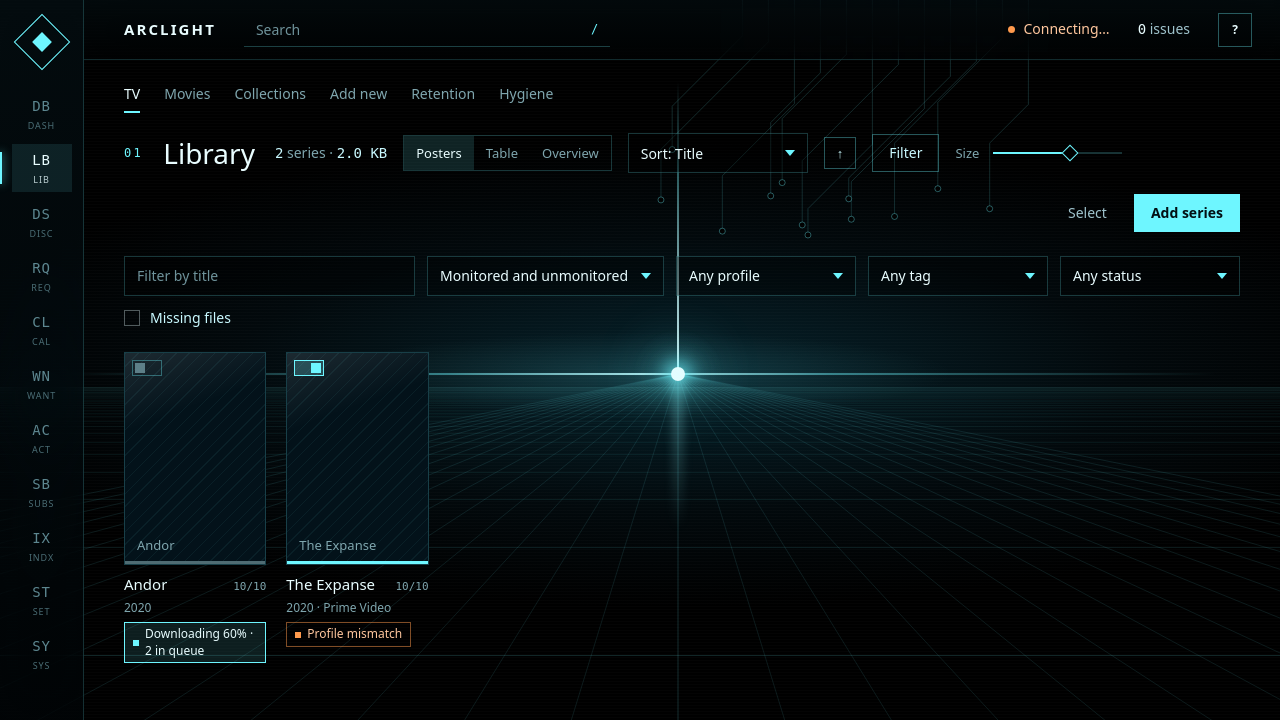
Test case: library index › lists series as poster cards and filters as you type
Expected: the link "The Expanse" is shown, [286, 352, 429, 647]
Expected: the link "Andor" is shown, [124, 352, 266, 663]
Type "expan" into the search field named "Filter library" at (270, 276), box [124, 256, 415, 296]
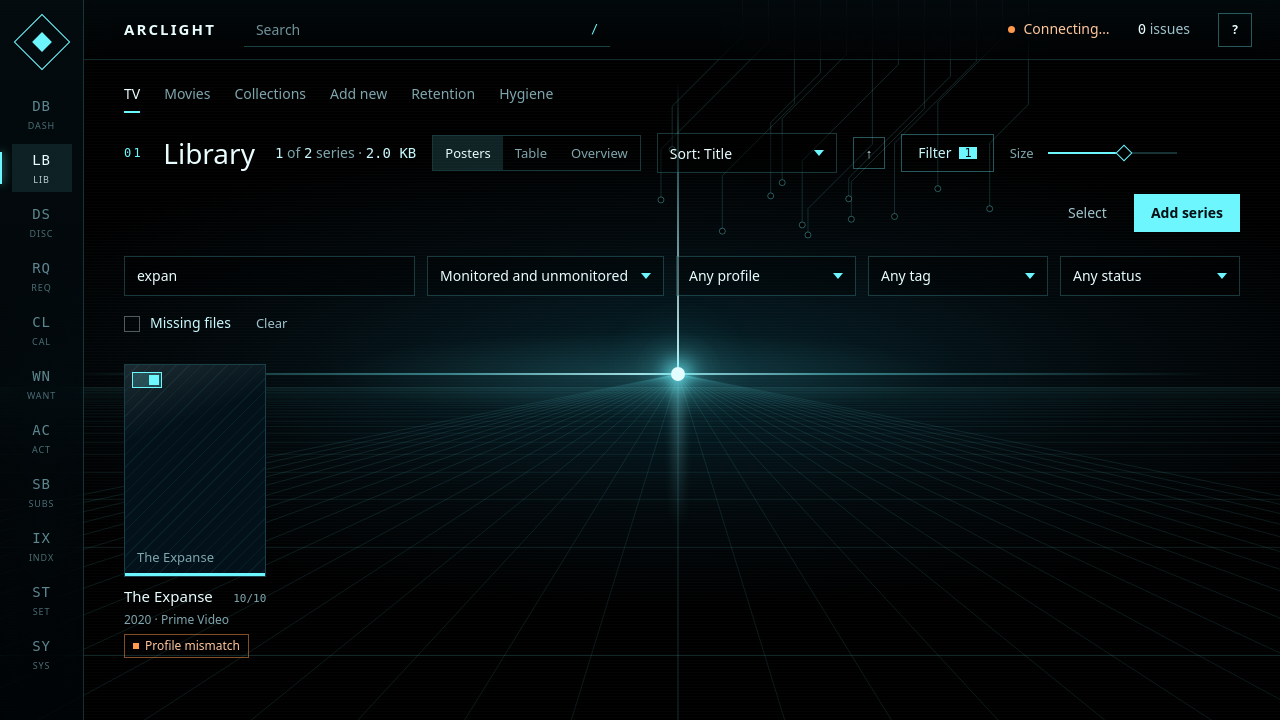
Result: the link "Andor" is gone
